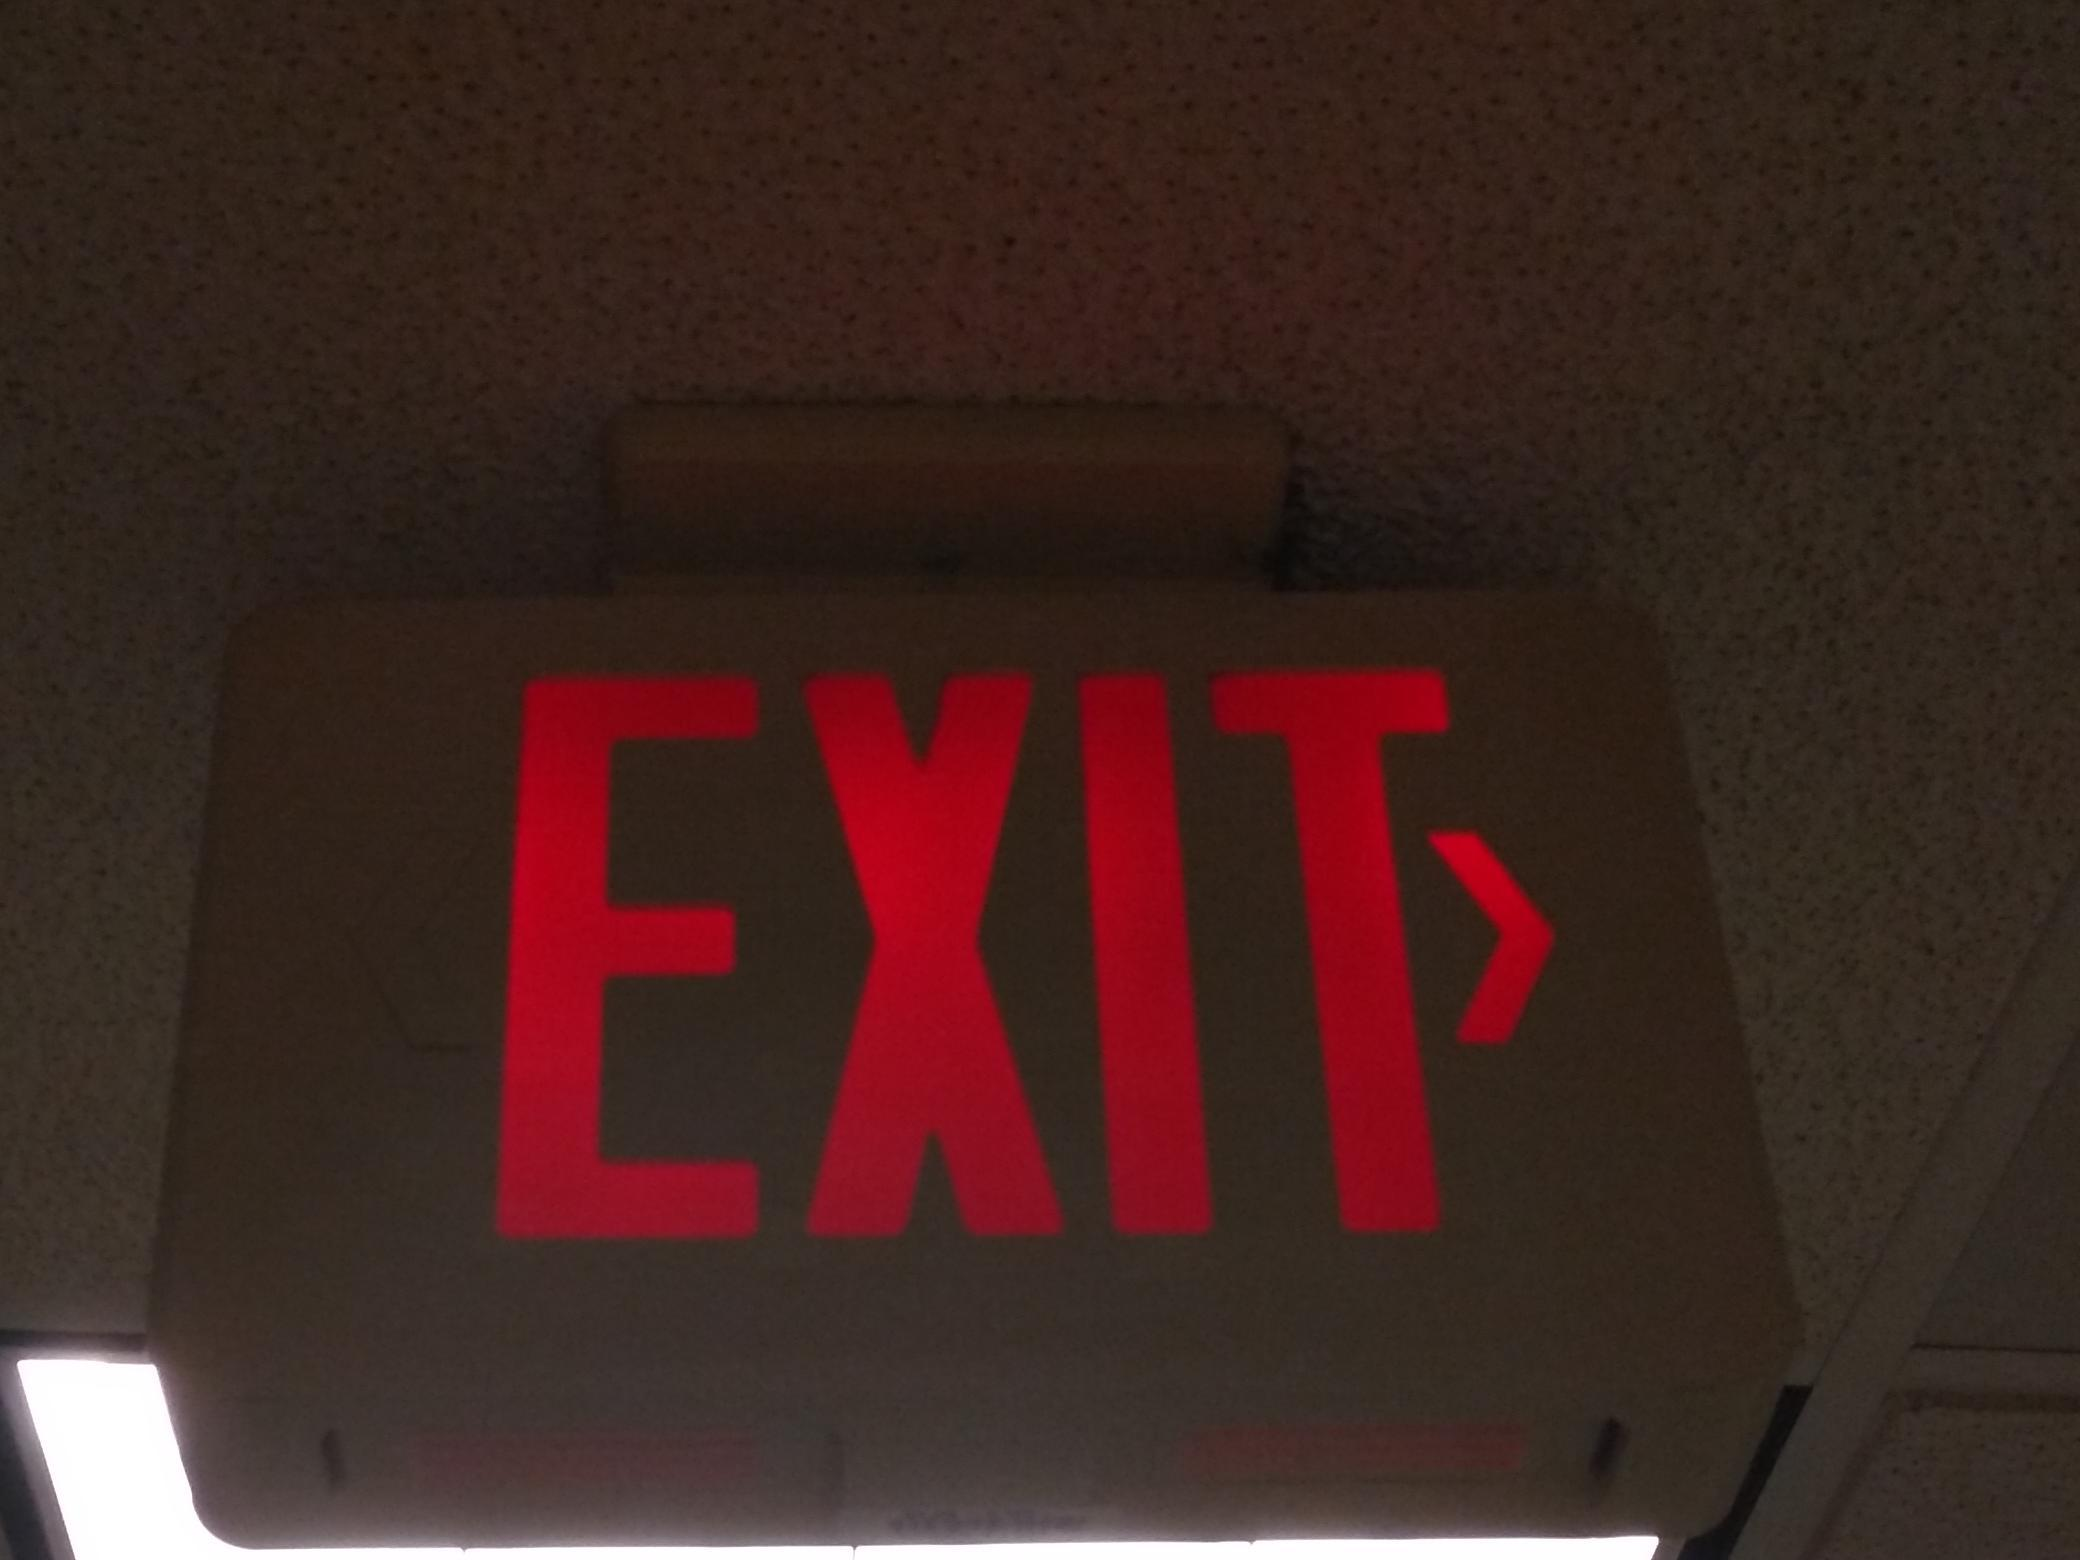sign: (146, 592, 1806, 1549)
